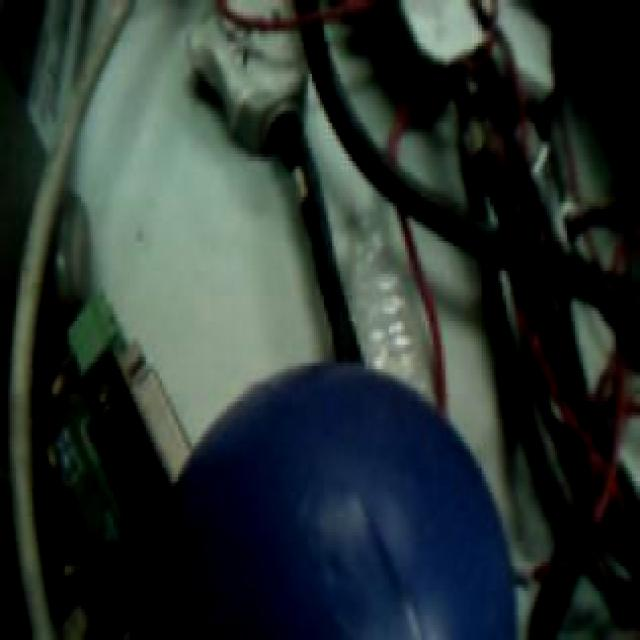BallPurple: (160, 366, 518, 640)
